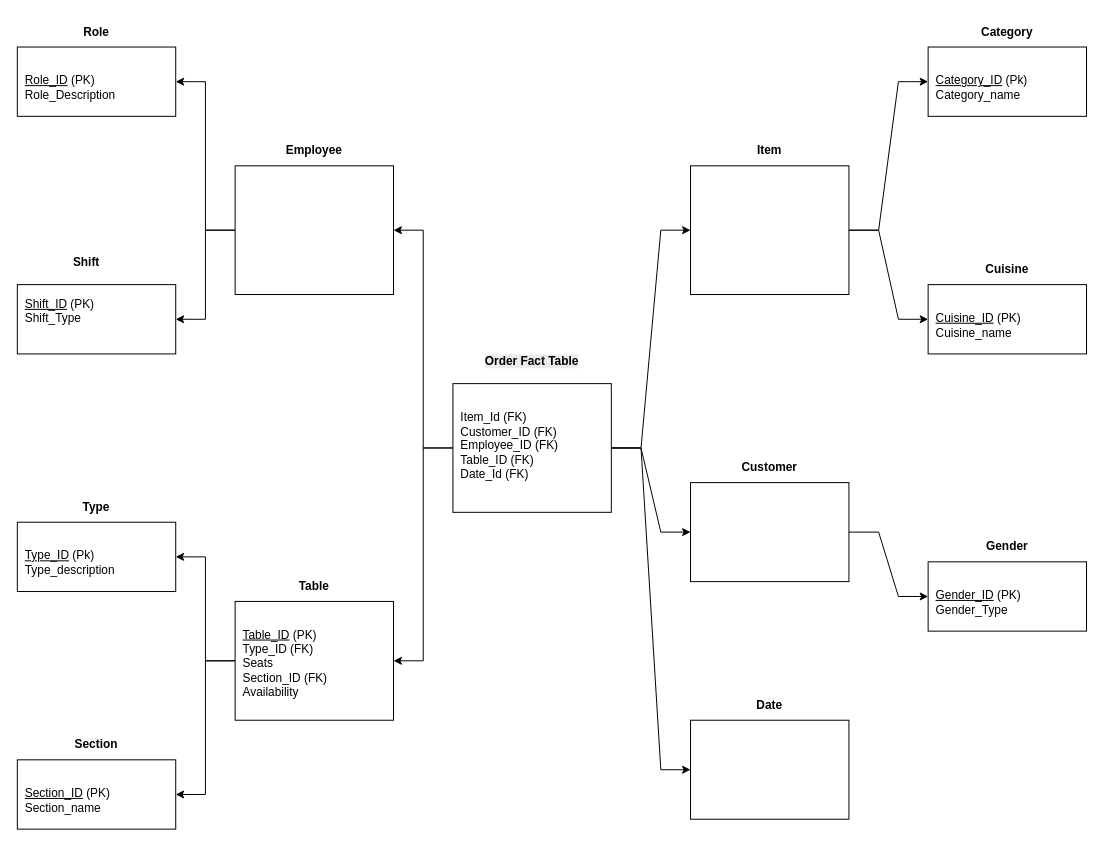
This 1104x846 diagram has some shape labels left out. Each missing label, with the centre of its shape:
"Customer_ID (Pk) Name Gender_ID (FK) Age" belongs at point (769, 532).
"Date_ID (PK) Date Day_name is_weekend" belongs at point (769, 769).
"Employee_ID (PK) Emp_name Role_ID (FK) Experience Shift_ID (FK)" belongs at point (314, 230).
"Item_ID (PK) Item_name Category_ID (FK) Price Cuisine_ID(FK) is_veg" belongs at point (769, 230).
